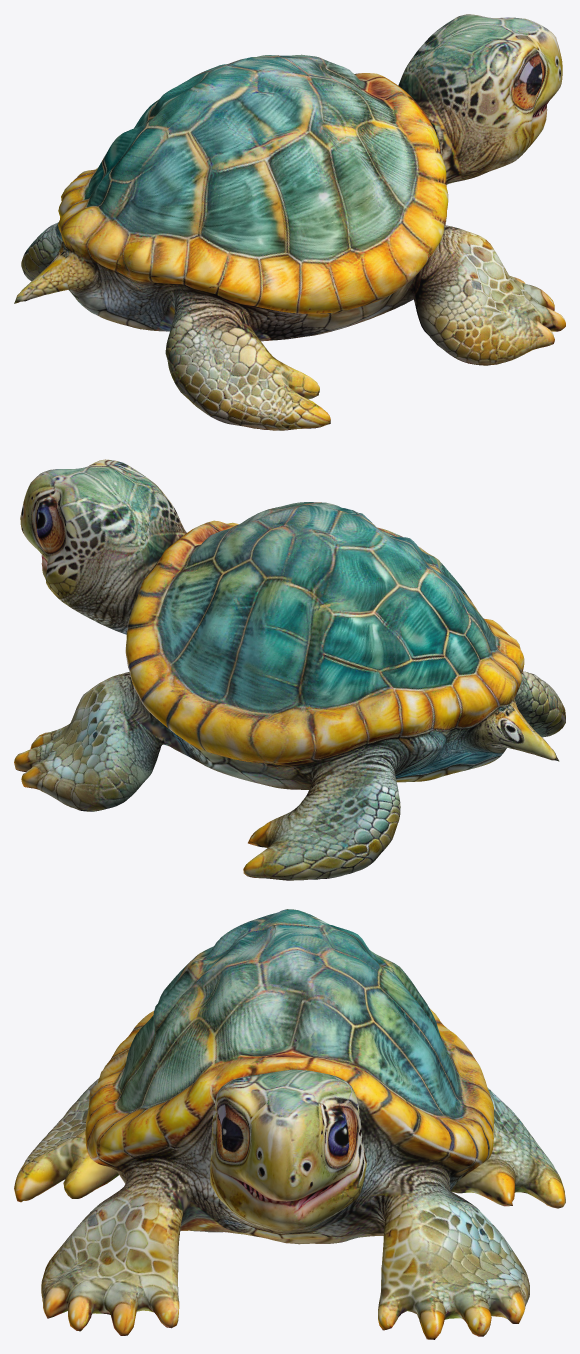
The model's file is turtle.glb.
3 views of the same model, one above another, from view 1: azimuth 30°, elevation 25°; view 2: azimuth 150°, elevation 25°; view 3: azimuth 270°, elevation 25° (orthographic). The views are drawn at different scales.
Size of the model in its own units: 1.2 by 0.5658 by 0.9294.
Materials: 1 (1 with a texture image).
